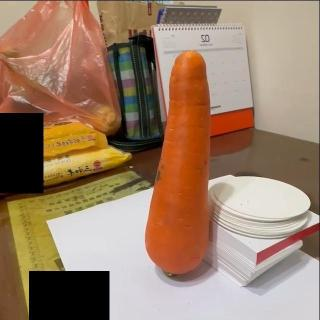carrot: (143, 49, 213, 279)
